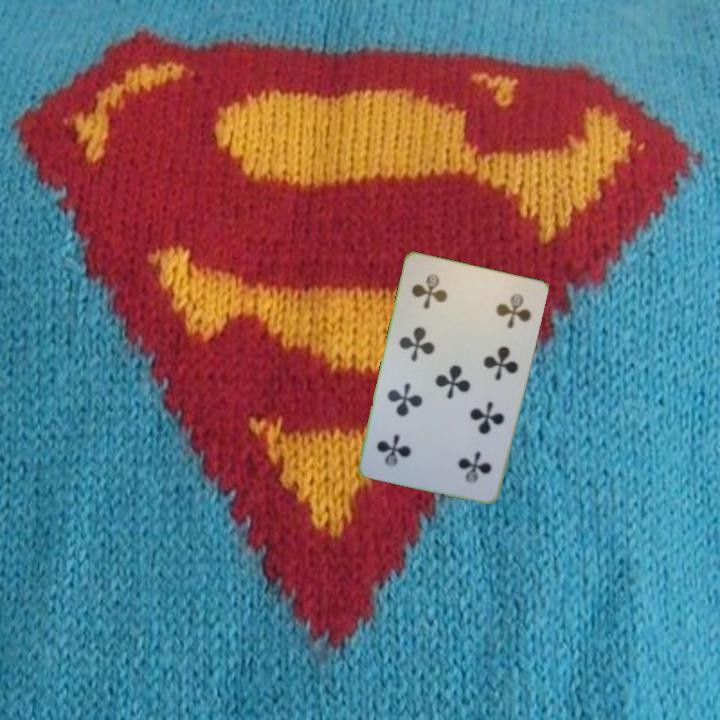c_9.png: (426, 425, 504, 495), (401, 262, 478, 332)
